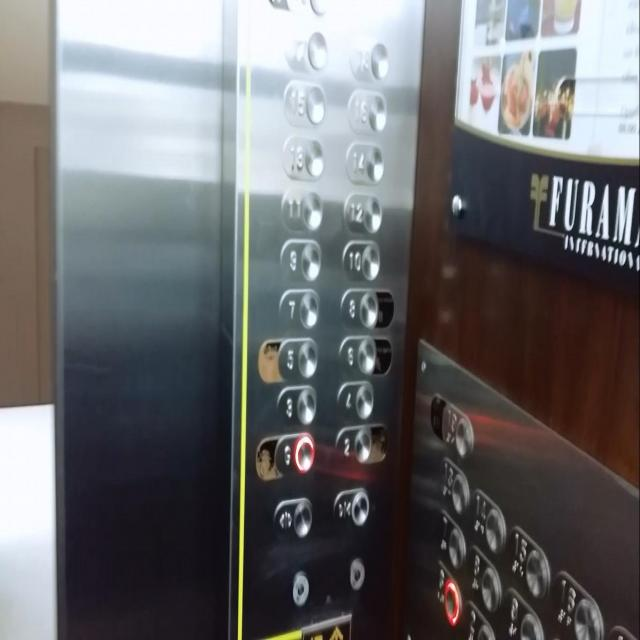10: (338, 236, 383, 282)
11: (278, 187, 323, 235)
12: (339, 188, 384, 236)
13: (282, 130, 330, 182), (434, 453, 470, 519)
14: (469, 484, 506, 558), (344, 138, 384, 187)
15: (505, 512, 549, 604), (283, 76, 329, 127)
16: (344, 83, 388, 135)
18: (345, 36, 391, 83)
2: (332, 420, 375, 468)
3: (275, 380, 318, 427)
4: (333, 378, 374, 420)
5: (278, 333, 318, 379)
6: (336, 332, 377, 376)
7: (274, 287, 321, 335), (435, 508, 465, 574)
8: (338, 282, 382, 331)
9: (277, 236, 323, 283)
G: (271, 429, 315, 477)
blur: (466, 544, 504, 614), (428, 556, 462, 626), (440, 393, 474, 459), (282, 28, 328, 75)
close: (330, 485, 370, 532)
keyhole: (291, 568, 309, 605), (349, 557, 365, 590)
open: (273, 492, 314, 542)
